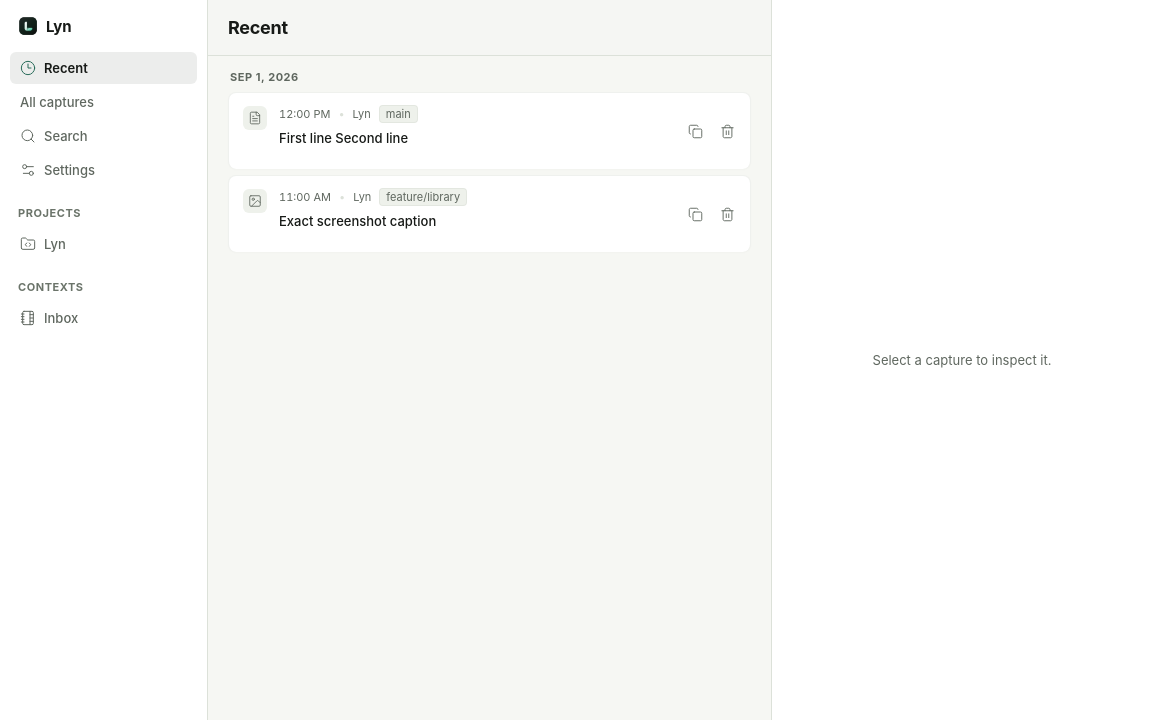
Test: responsive Library › keeps the project when deletion is refused and lets confirmation be cancelled
Click the button "Lyn". click: (104, 244)
box: [10, 228, 197, 260]
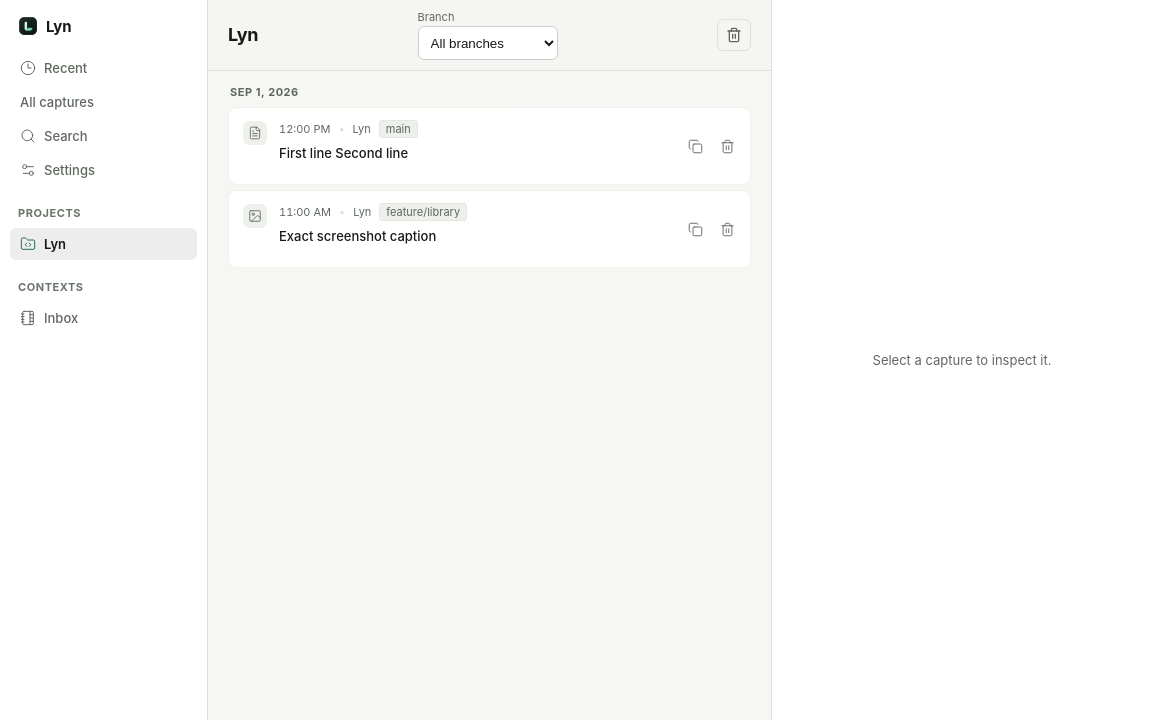
Click the button named "Delete project". click: (734, 35)
box: [717, 19, 751, 51]
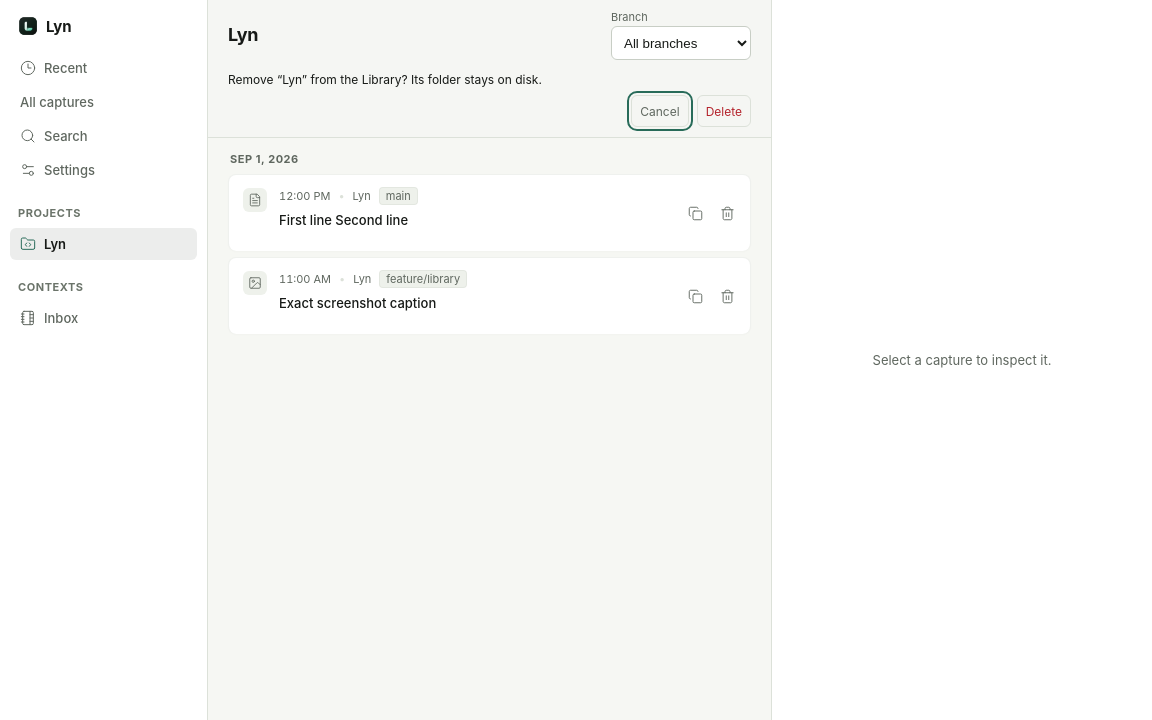
Click the button "Delete". click: (724, 111)
box: [697, 95, 751, 127]
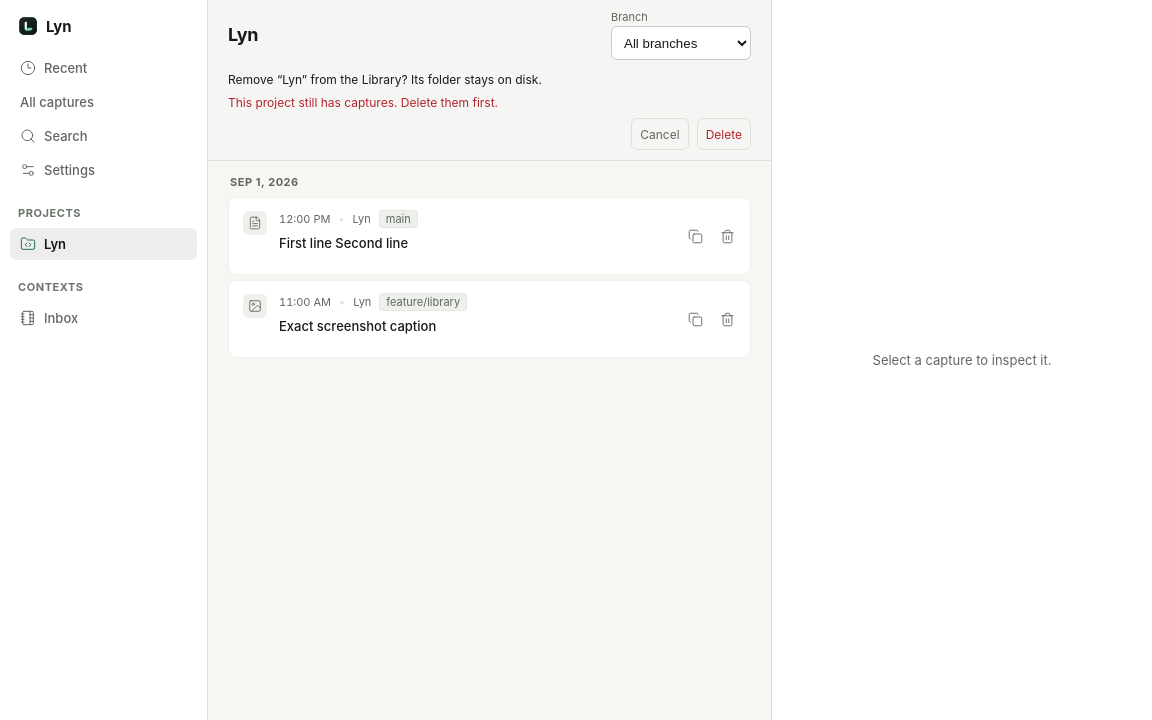
Check: the button "Lyn" is shown, box [10, 228, 197, 260]
Check: the message "This project still has captures. Delete them first." is shown, box [228, 95, 498, 110]
Click the button "Cancel". click: (660, 134)
box: [631, 118, 689, 150]
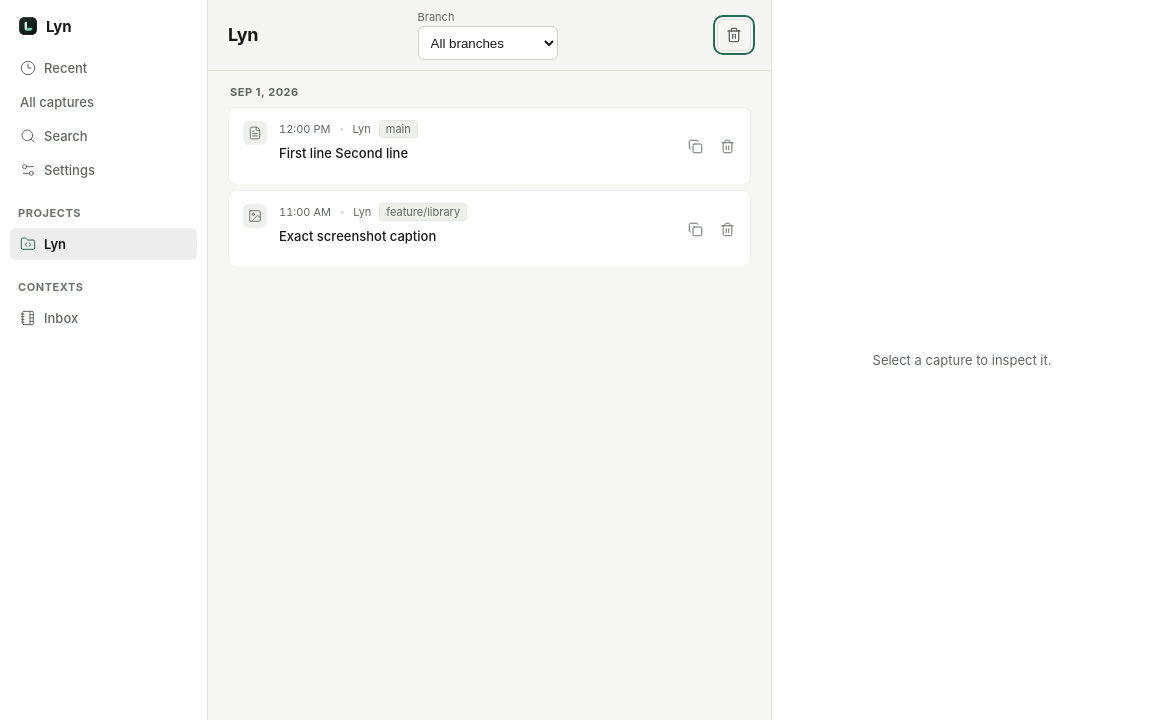
Check: the dialog is gone
